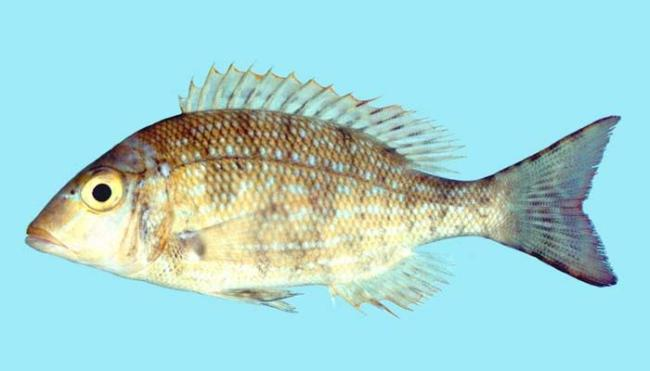fish: (25, 62, 619, 318)
